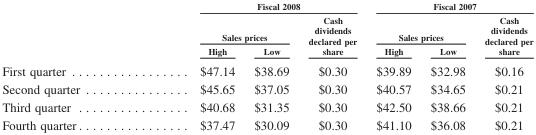table: (1, 0, 532, 131)
table column: (1, 0, 140, 131), (140, 0, 243, 131), (298, 0, 365, 131), (474, 0, 532, 131), (243, 0, 298, 131), (365, 0, 420, 131), (420, 0, 474, 131)
table column header: (1, 0, 532, 59)
table row: (1, 12, 532, 43), (1, 59, 532, 80), (1, 97, 532, 115), (1, 80, 532, 97), (1, 43, 532, 59), (1, 115, 532, 131), (1, 0, 532, 12)
table spanning cell: (140, 12, 298, 43), (365, 12, 474, 43), (298, 12, 365, 59), (474, 12, 532, 59), (140, 0, 365, 12), (365, 0, 532, 12)
